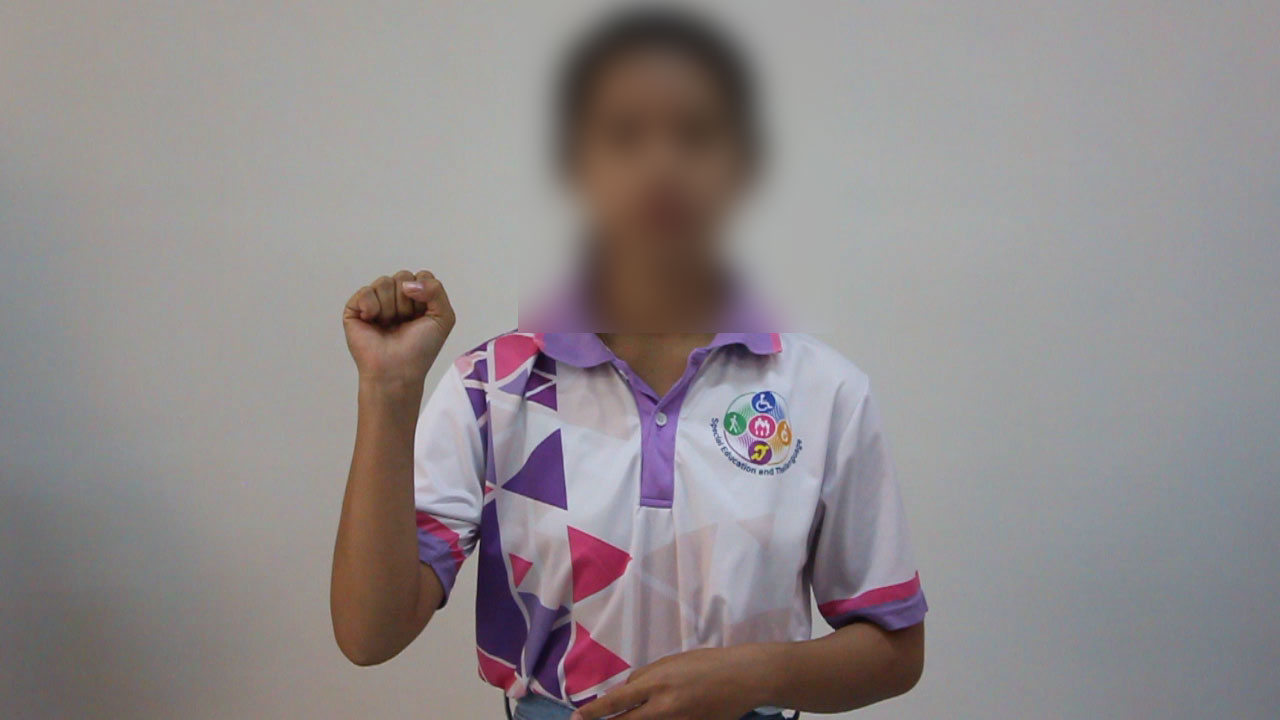sor: (321, 249, 464, 408)
